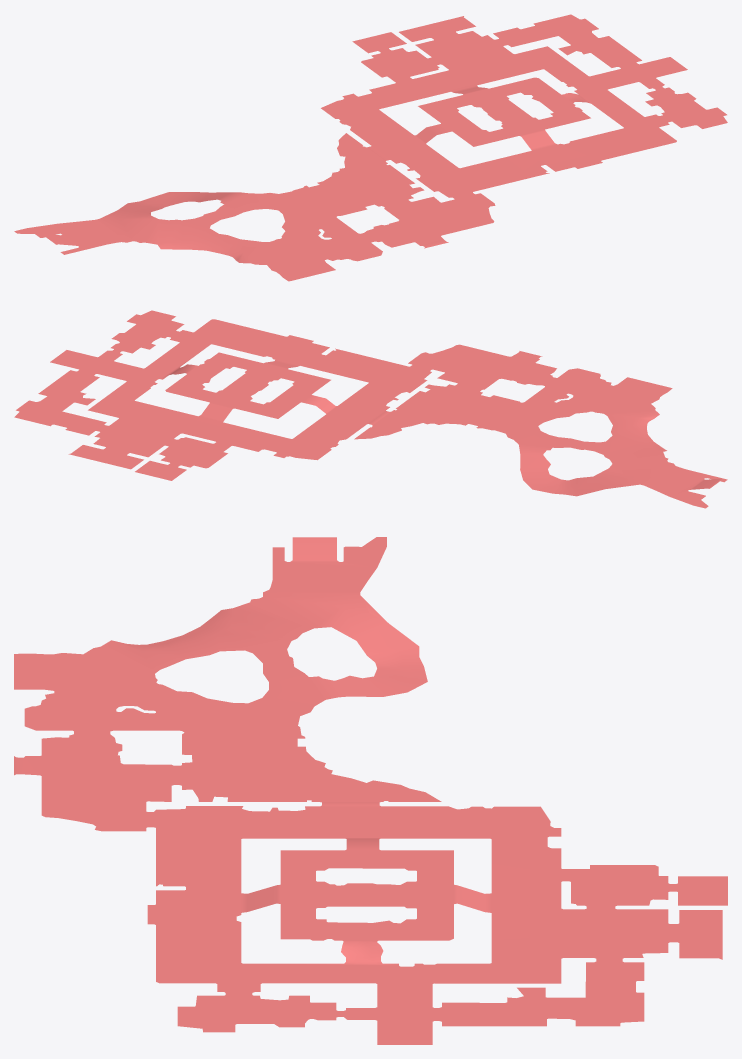
File: Prohibited_CEMETERY.fbx
The picture shows the model from 3 angles, top to bottom: view 1: azimuth 30°, elevation 25°; view 2: azimuth 150°, elevation 25°; view 3: azimuth 270°, elevation 25°; orthographic projection. The views are drawn at different scales.
Parts seen in each view (by area): view 1: Cemetery; view 2: Cemetery; view 3: Cemetery.
Part boxes in pixels (x1,y1,x2,y2): Cemetery: (14, 14, 727, 281); Cemetery: (14, 310, 727, 508); Cemetery: (14, 537, 727, 1044).
Size of the model in its own units: 99.88 by 2.53 by 59.35.
